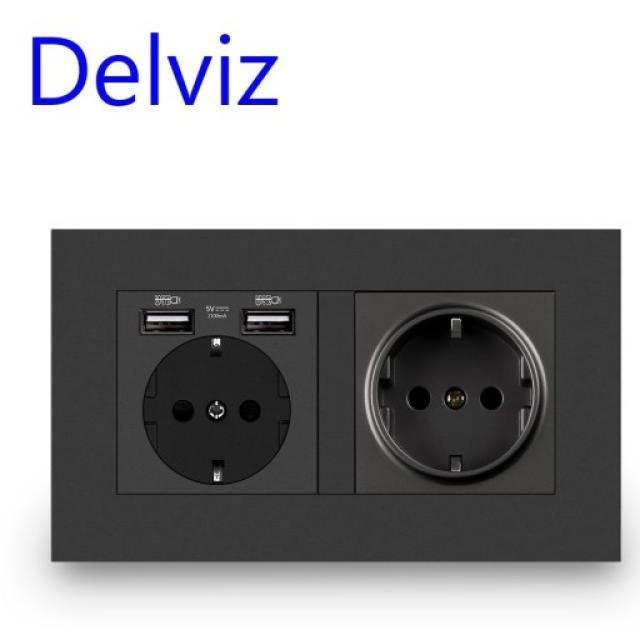typeb: (9, 214, 640, 583)
